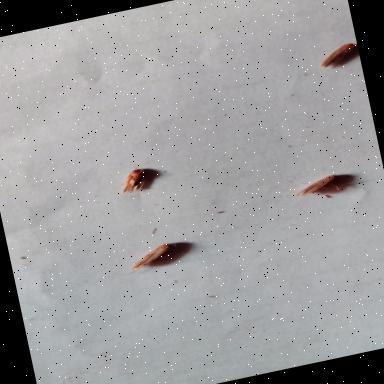pbw: (124, 240, 176, 274), (308, 39, 358, 70), (301, 170, 346, 202), (114, 165, 152, 196)
